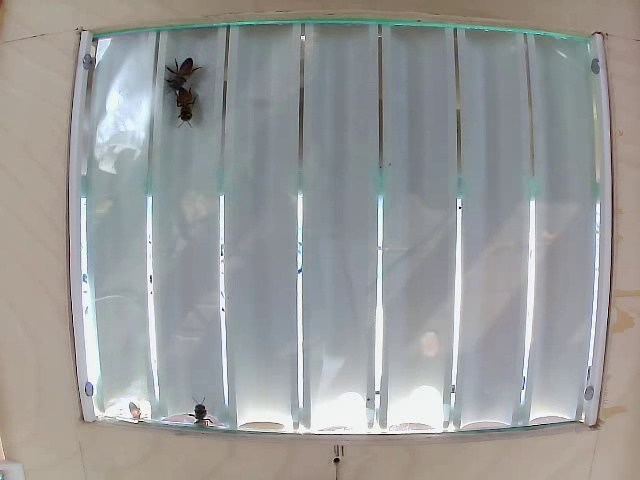bee: (172, 89, 201, 137), (166, 58, 203, 94), (187, 393, 218, 428)
